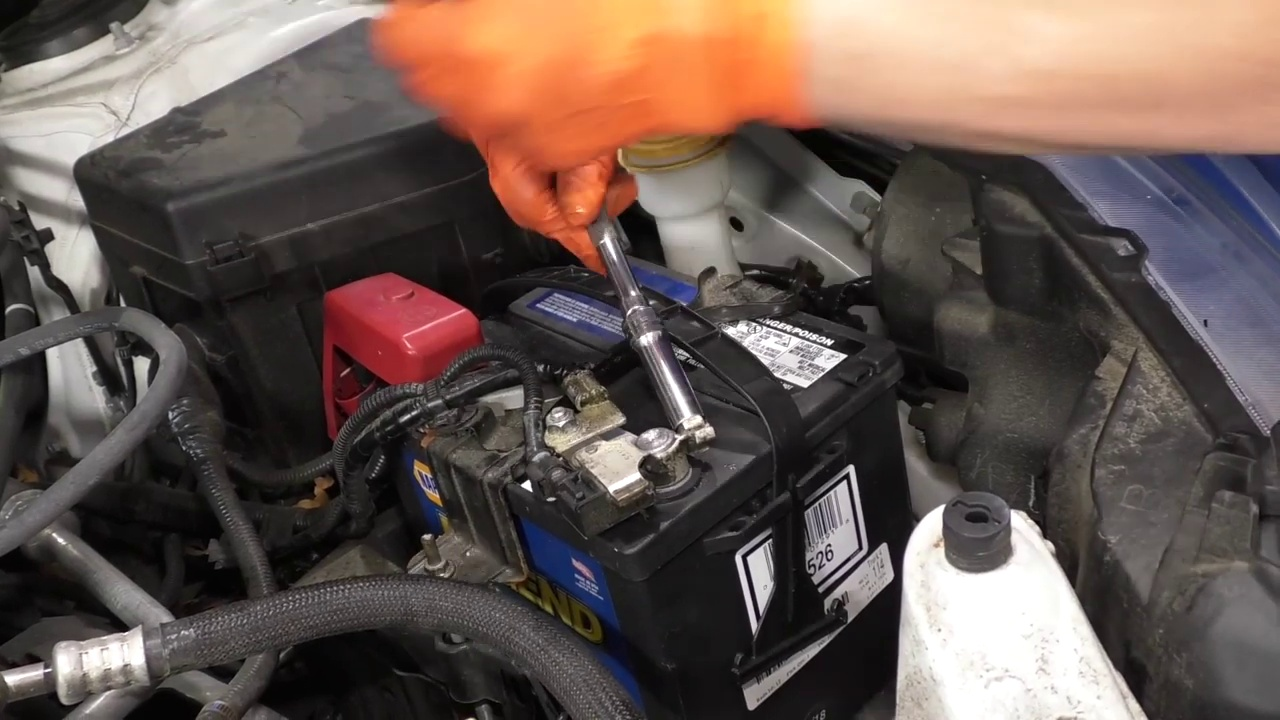battery: (367, 237, 914, 541)
neg_connected: (545, 415, 713, 518)
pos_connected: (319, 278, 478, 425)
